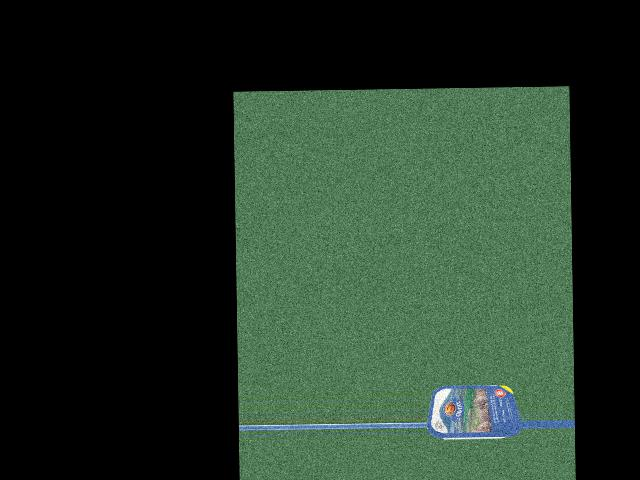cheese: (433, 382, 511, 446)
